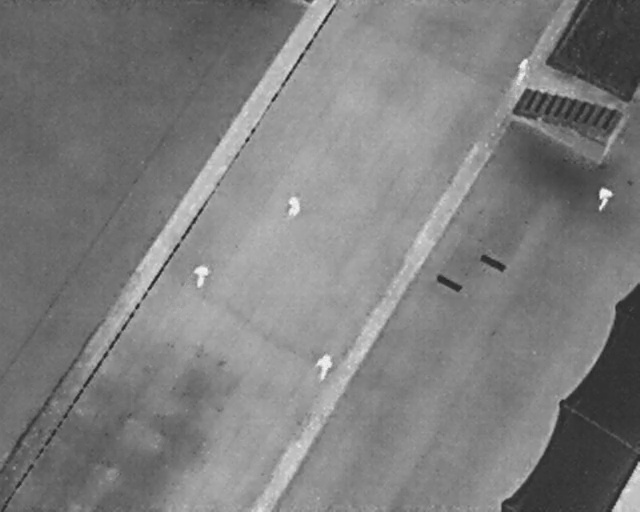Person: (310, 350, 336, 383), (592, 183, 616, 214), (191, 262, 211, 288), (513, 56, 530, 84), (283, 194, 302, 219)
